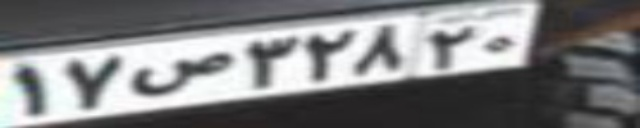0: (481, 34, 514, 53)
1: (15, 66, 45, 114)
2: (307, 31, 357, 80), (428, 25, 474, 69)
3: (246, 34, 296, 87)
7: (68, 55, 119, 109)
8: (357, 25, 407, 76)
saat: (129, 52, 233, 96)
